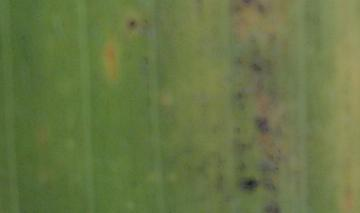tarspot: (238, 177, 258, 194), (255, 117, 269, 134), (262, 201, 281, 213), (248, 61, 262, 73), (126, 17, 137, 30), (141, 52, 151, 66), (255, 2, 266, 14), (233, 88, 244, 100), (240, 1, 254, 6)
